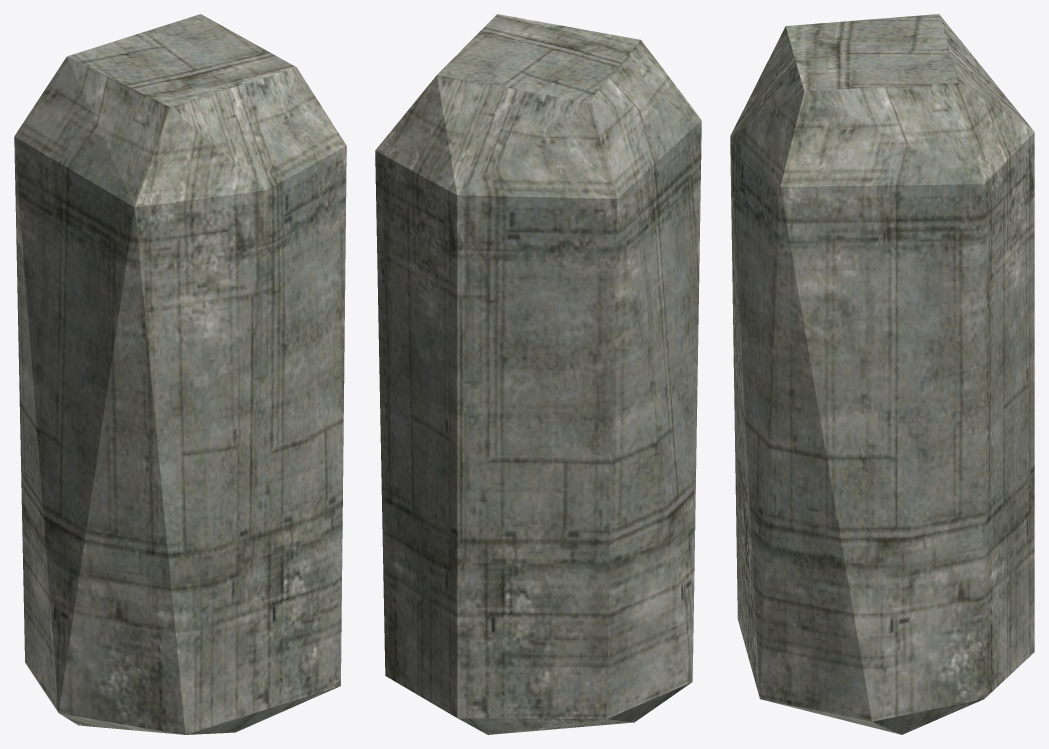
File: thm_prp_junk_s6_l2.fbx
3 views of the same model, side by side, from view 1: azimuth 30°, elevation 25°; view 2: azimuth 150°, elevation 25°; view 3: azimuth 270°, elevation 25° (orthographic).
Parts seen in each view (by area): view 1: mesh_node; view 2: mesh_node; view 3: mesh_node.
Part boxes in pixels (x1,y1,x2,y2): mesh_node: (14, 14, 346, 734); mesh_node: (375, 14, 701, 734); mesh_node: (730, 14, 1034, 734).
Bounding box in the file's own units: 1.97 × 4.23 × 1.84.
